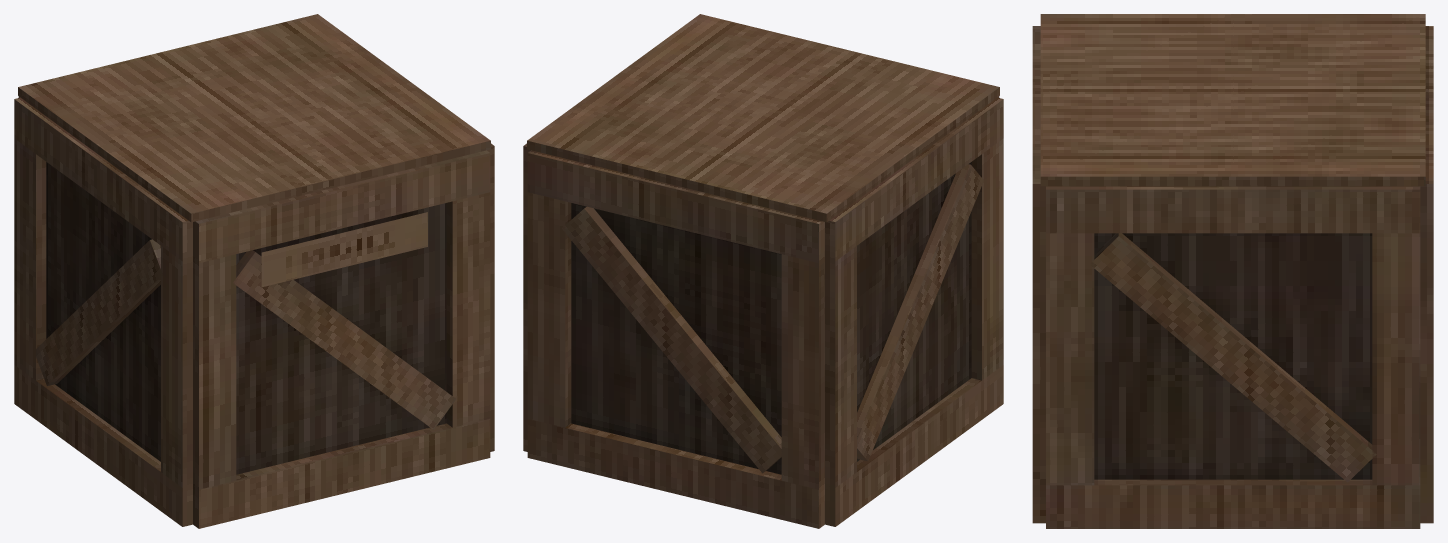
The model's file is vuena-px-crate-wood.glb.
3 renders of one model, left to right at view 1: azimuth 30°, elevation 25°; view 2: azimuth 150°, elevation 25°; view 3: azimuth 270°, elevation 25°, orthographic. The views are drawn at different scales.
Parts seen in each view (by area): view 1: px_crate_wood; view 2: px_crate_wood; view 3: px_crate_wood.
Boxes of the visible parts, x1,y1,x2,y2 form: px_crate_wood: [14, 14, 494, 528]; px_crate_wood: [523, 14, 1003, 528]; px_crate_wood: [1032, 14, 1433, 528].
Size of the model in its own units: 0.75 by 0.72 by 0.751.
Materials: 1 (1 with a texture image).
